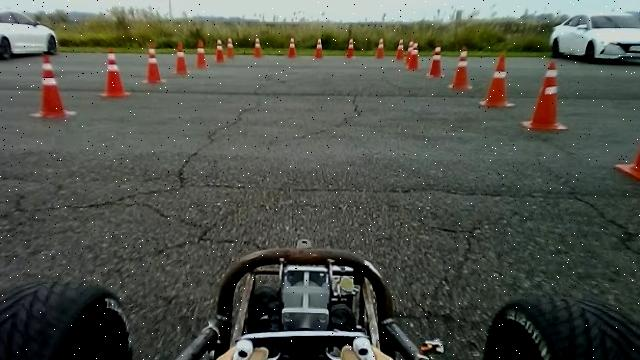red cone: (520, 61, 570, 130), (29, 53, 77, 118), (479, 53, 516, 107), (99, 47, 131, 97), (449, 46, 474, 90), (142, 47, 168, 84), (426, 46, 446, 79), (174, 40, 189, 74), (195, 38, 210, 68), (215, 38, 224, 62)
